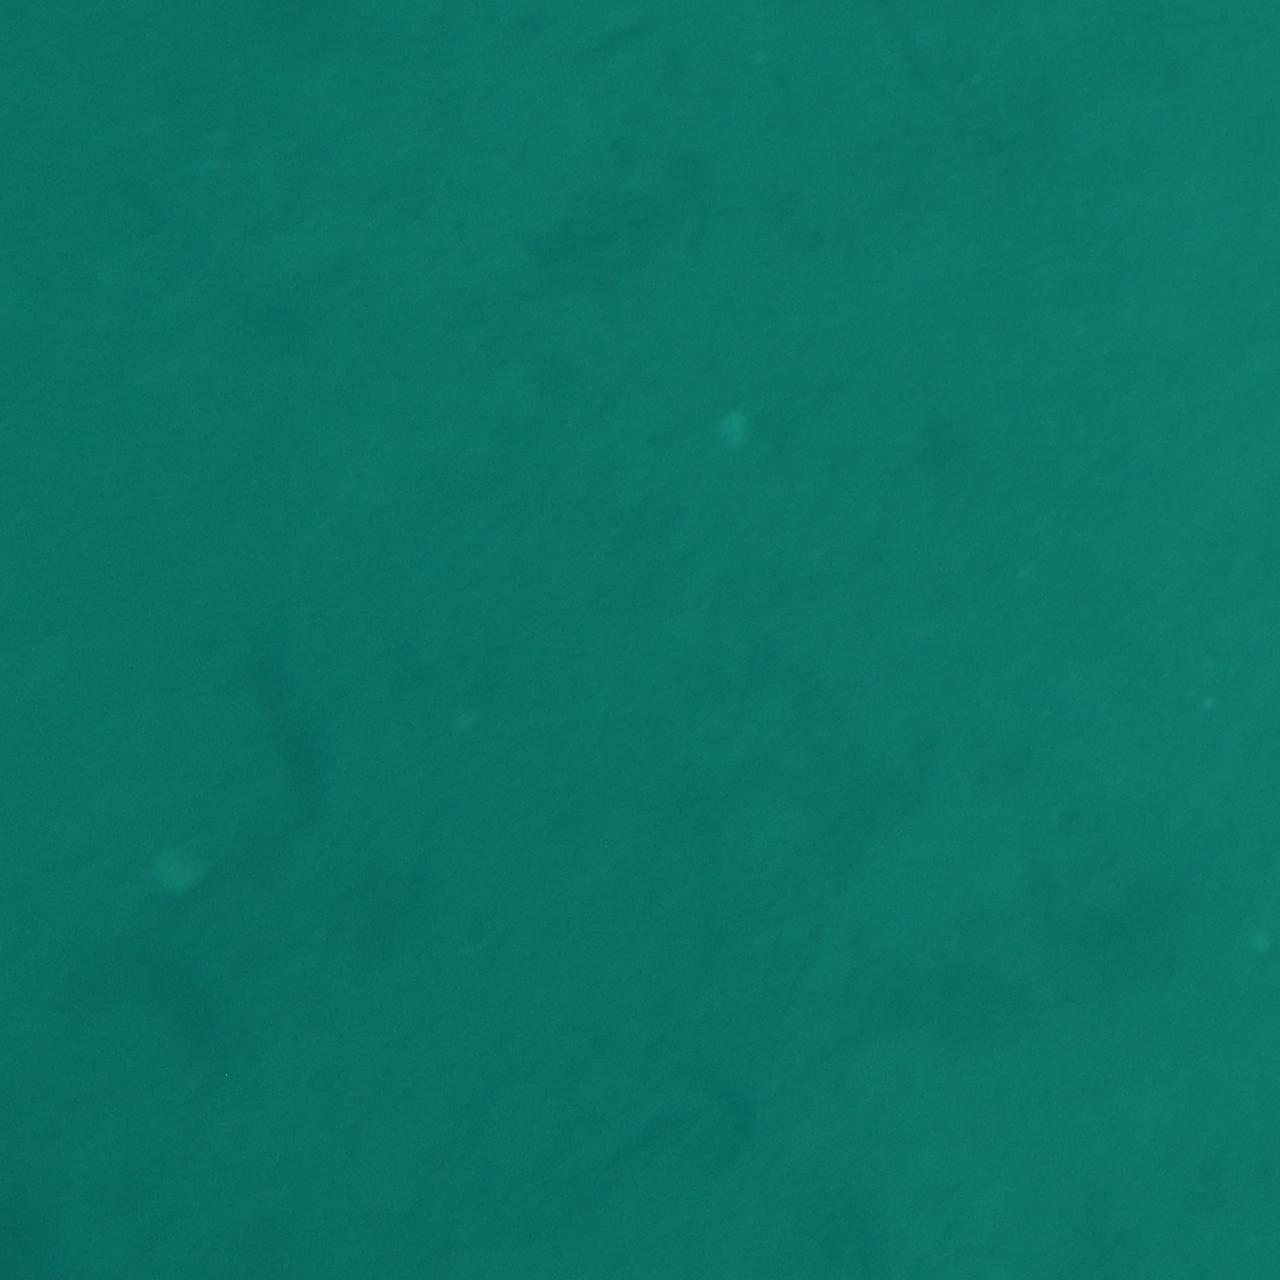Holothuria tubulosa: (518, 1050, 762, 1270)
